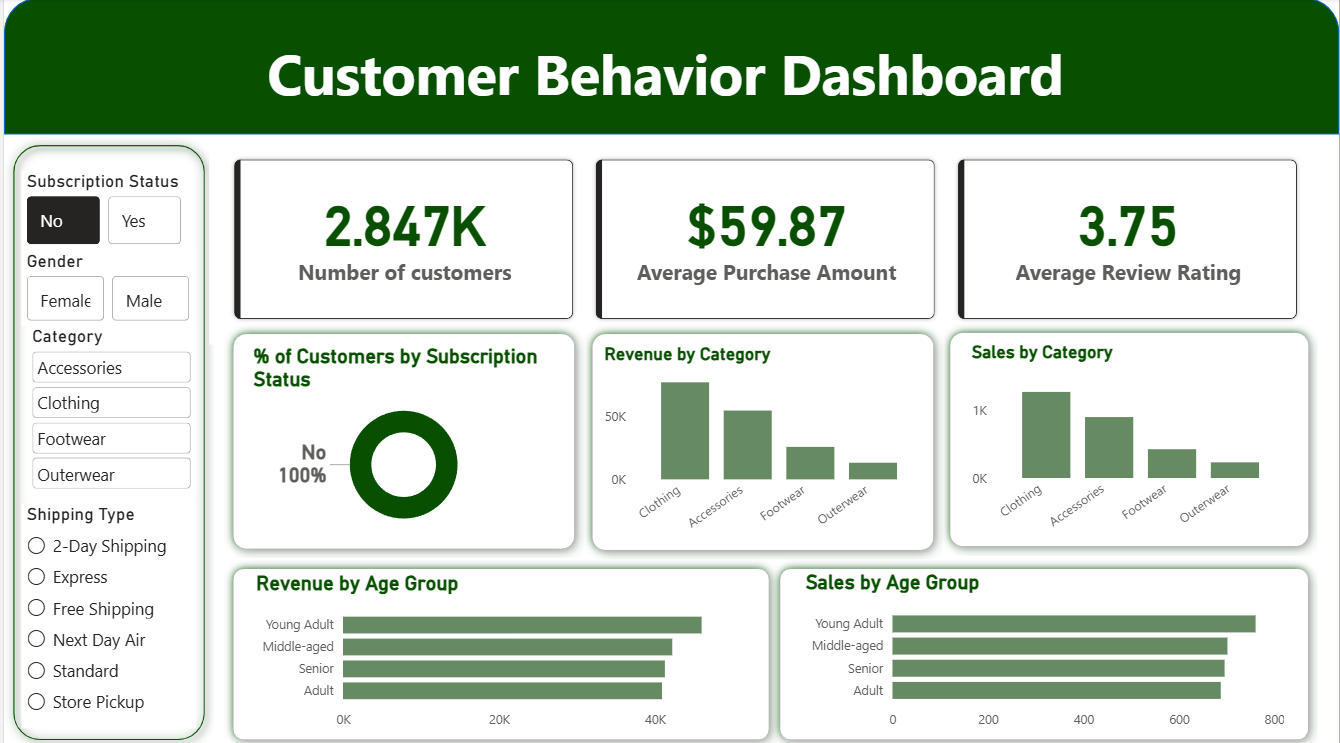

What the dashboard file says about the page in this screenshot:
{"tool":"powerbi","page":{"name":"Page 1","canvas":[1280,720],"ordinal":0},"visuals":[{"type":"cardVisual","fields":{"Data":["public customer.Number of customers","public customer.Average Purchase Amount","public customer.Average Review Rating"]},"box":[196.2,131.2,1068.8,201.2],"z":0,"group":"g3"},{"type":"group","id":"g1","title":"Group 1","box":[735.7,538.6,524.3,181.4],"z":0},{"type":"shape","box":[735.7,538.6,524.3,181.4],"z":0,"group":"g1"},{"type":"shape","box":[0,0,1280.4,131],"z":1000,"group":"g3"},{"type":"group","id":"g2","title":"Group 2","box":[0,131.4,201.4,588.6],"z":1000},{"type":"clusteredBarChart","title":"Sales by Age Group","fields":{"Y":["CountNonNull(public customer.customer_id)"],"Category":["public customer.age_group"]},"box":[763.6,548.7,469.1,161.3],"z":1000,"group":"g1"},{"type":"group","id":"g3","title":"Group 3","box":[0,0,1280.4,332.5],"z":2000},{"type":"textbox","box":[0,29.6,1280.4,101.4],"z":2000,"group":"g3"},{"type":"group","id":"g4","title":"Group 4","box":[211.2,312.2,1048,226.6],"z":3000},{"type":"shape","box":[211.2,313.8,345,223.8],"z":3000,"group":"g4"},{"type":"donutChart","title":"% of Customers by Subscription Status","fields":{"Category":["public customer.subscription_status"],"Y":["CountNonNull(public customer.customer_id)"]},"box":[235,332.5,297.5,186.2],"z":4000,"group":"g4"},{"type":"group","id":"g5","title":"Group 5","box":[211.4,538.6,531.4,181.4],"z":4000},{"type":"shape","box":[556.2,313.8,345,225],"z":5000,"group":"g4"},{"type":"shape","box":[898.2,312.2,361.4,222.9],"z":6000,"group":"g6"},{"type":"clusteredColumnChart","title":" Revenue by Category","fields":{"Y":["Sum(public customer.purchase_amount)"],"Category":["public customer.category"]},"box":[571.2,331.3,316.2,190],"z":7000,"group":"g4"},{"type":"clusteredColumnChart","title":"Sales by Category","fields":{"Y":["CountNonNull(public customer.customer_id)"],"Category":["public customer.category"]},"box":[922.5,330.6,311.4,190],"z":8000,"group":"g6"},{"type":"shape","box":[0,131.4,201.4,588.6],"z":9000,"group":"g2"},{"type":"advancedSlicerVisual","fields":{"Values":["public customer.subscription_status"]},"box":[17.1,165.7,158.6,75.7],"z":10000,"group":"g2"},{"type":"advancedSlicerVisual","fields":{"Values":["public customer.gender"]},"box":[17.3,241.8,167.3,72.7],"z":11000,"group":"g2"},{"type":"advancedSlicerVisual","title":"Category","fields":{"Values":["public customer.category"]},"box":[21.4,314.3,162.9,161.4],"z":12000,"group":"g2"},{"type":"listSlicer","fields":{"Values":["public customer.shipping_type"]},"box":[17.3,485.4,167.3,214.5],"z":13000,"group":"g2"},{"type":"shape","box":[211.4,538.6,531.4,181.4],"z":14000,"group":"g5"},{"type":"clusteredBarChart","title":"Revenue by Age Group","fields":{"Y":["Sum(public customer.purchase_amount)"],"Category":["public customer.age_group"]},"box":[237.8,550,476.8,160.2],"z":15000,"group":"g5"},{"type":"group","id":"g6","title":"Group 6","box":[898.2,312.2,360.9,222.7],"z":15008,"group":"g4"}]}

Visuals, with their boxes in screenshot pixels (x1, y1, x2, y2), scaled from the page's 1280x720 canvas onto the 1340x743 screenshot:
cardVisual - public customer.Number of customers x public customer.Average Purchase Amount: left=205, top=135, right=1324, bottom=343
"Group 1" group: left=770, top=556, right=1319, bottom=742
shape: left=770, top=556, right=1319, bottom=742
shape: left=0, top=0, right=1339, bottom=135
"Group 2" group: left=0, top=136, right=211, bottom=742
"Sales by Age Group" clusteredBarChart: left=799, top=566, right=1290, bottom=733
"Group 3" group: left=0, top=0, right=1339, bottom=343
textbox: left=0, top=31, right=1339, bottom=135
"Group 4" group: left=221, top=322, right=1318, bottom=556
shape: left=221, top=324, right=582, bottom=555
"% of Customers by Subscription Status" donutChart: left=246, top=343, right=557, bottom=535
"Group 5" group: left=221, top=556, right=778, bottom=742
shape: left=582, top=324, right=943, bottom=556
shape: left=940, top=322, right=1319, bottom=552
" Revenue by Category" clusteredColumnChart: left=598, top=342, right=929, bottom=538
"Sales by Category" clusteredColumnChart: left=966, top=341, right=1292, bottom=537
shape: left=0, top=136, right=211, bottom=742
advancedSlicerVisual - public customer.subscription_status: left=18, top=171, right=184, bottom=249
advancedSlicerVisual - public customer.gender: left=18, top=250, right=193, bottom=325
"Category" advancedSlicerVisual: left=22, top=324, right=193, bottom=491
listSlicer - public customer.shipping_type: left=18, top=501, right=193, bottom=722
shape: left=221, top=556, right=778, bottom=742
"Revenue by Age Group" clusteredBarChart: left=249, top=568, right=748, bottom=733
"Group 6" group: left=940, top=322, right=1318, bottom=552
